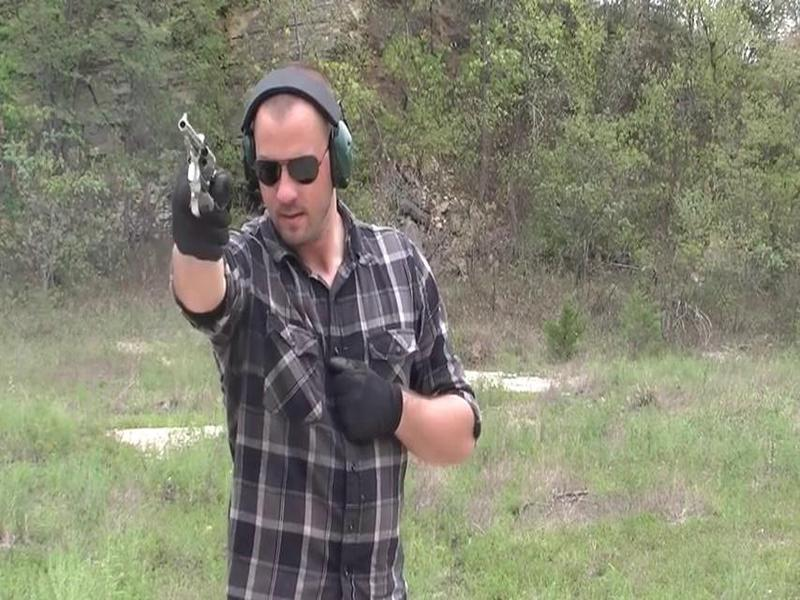Revolver: (170, 107, 228, 234)
